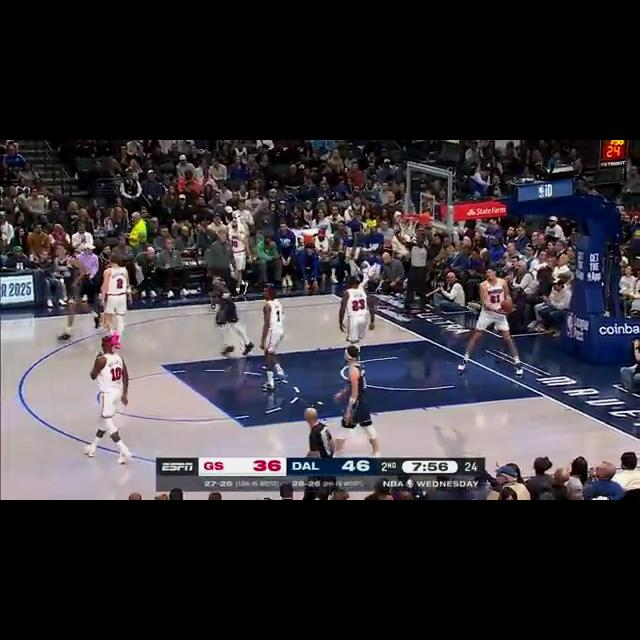Ball: (496, 294, 516, 314)
Team-1-Player: (40, 244, 106, 334), (333, 343, 381, 452)
Team-2-Player: (456, 266, 526, 374), (86, 336, 142, 468), (254, 282, 292, 392), (334, 274, 376, 352), (102, 252, 136, 346)
